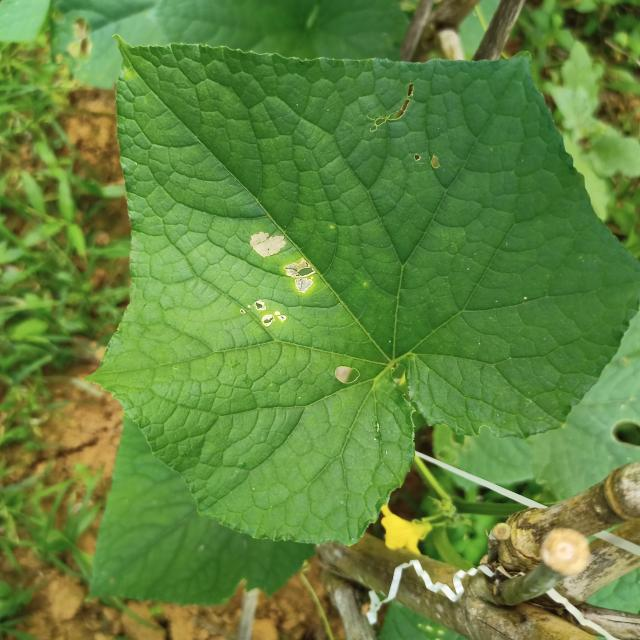disease_cucumber: (247, 230, 315, 332)
